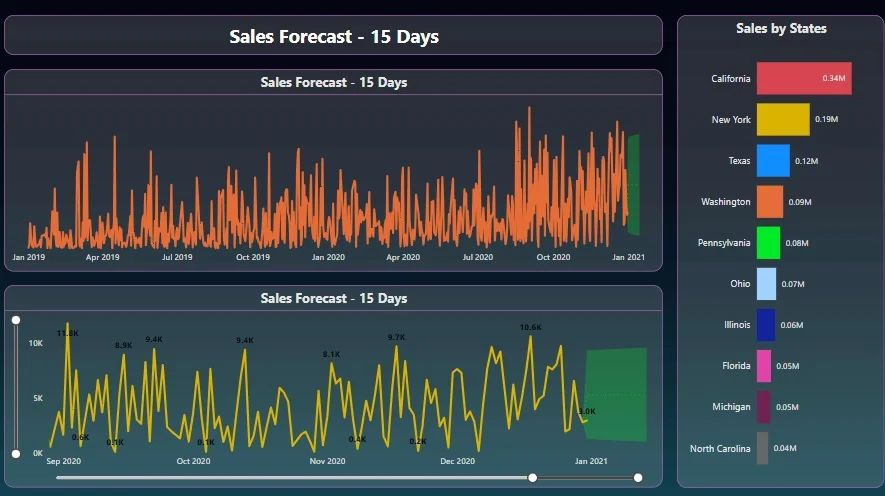

What the dashboard file says about the page in this screenshot:
{"tool":"powerbi","page":{"name":"Page 2","canvas":[1280,720],"ordinal":1},"visuals":[{"type":"lineChart","title":"Sales Forecast - 15 Days","fields":{"Y":["Sum(SuperStore_Sales_Dataset.Sales)"],"Category":["SuperStore_Sales_Dataset.Order Date"]},"box":[12.8,102,939.7,289.1],"z":0},{"type":"lineChart","title":"Sales Forecast - 15 Days","fields":{"Y":["Sum(SuperStore_Sales_Dataset.Sales)"],"Category":["SuperStore_Sales_Dataset.Order Date"]},"box":[12.8,411,939.7,289.1],"z":1000},{"type":"clusteredBarChart","title":"Sales by States","fields":{"Category":["SuperStore_Sales_Dataset.State"],"Y":["Sum(SuperStore_Sales_Dataset.Sales)"]},"box":[973.7,25.5,296.2,674.6],"z":2000},{"type":"textbox","box":[12.8,25.5,939.7,56.7],"z":3000}]}

Visuals, with their boxes in screenshot pixels (x1, y1, x2, y2), scaled from the page's 1280x720 canvas onto the 885x496 screenshot:
"Sales Forecast - 15 Days" lineChart: bbox(9, 70, 659, 269)
"Sales Forecast - 15 Days" lineChart: bbox(9, 283, 659, 482)
"Sales by States" clusteredBarChart: bbox(673, 18, 878, 482)
textbox: bbox(9, 18, 659, 57)
